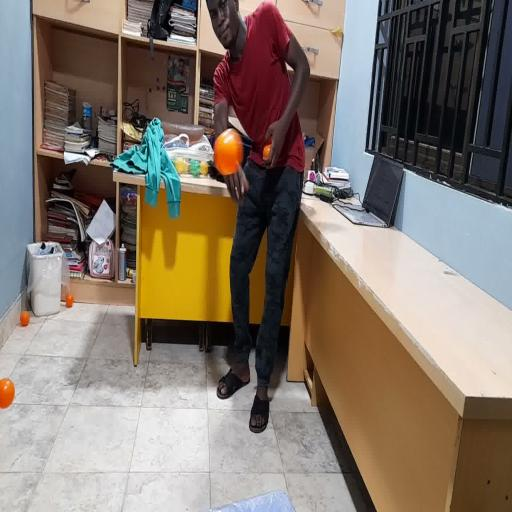plastic-ball: (214, 129, 243, 175)
